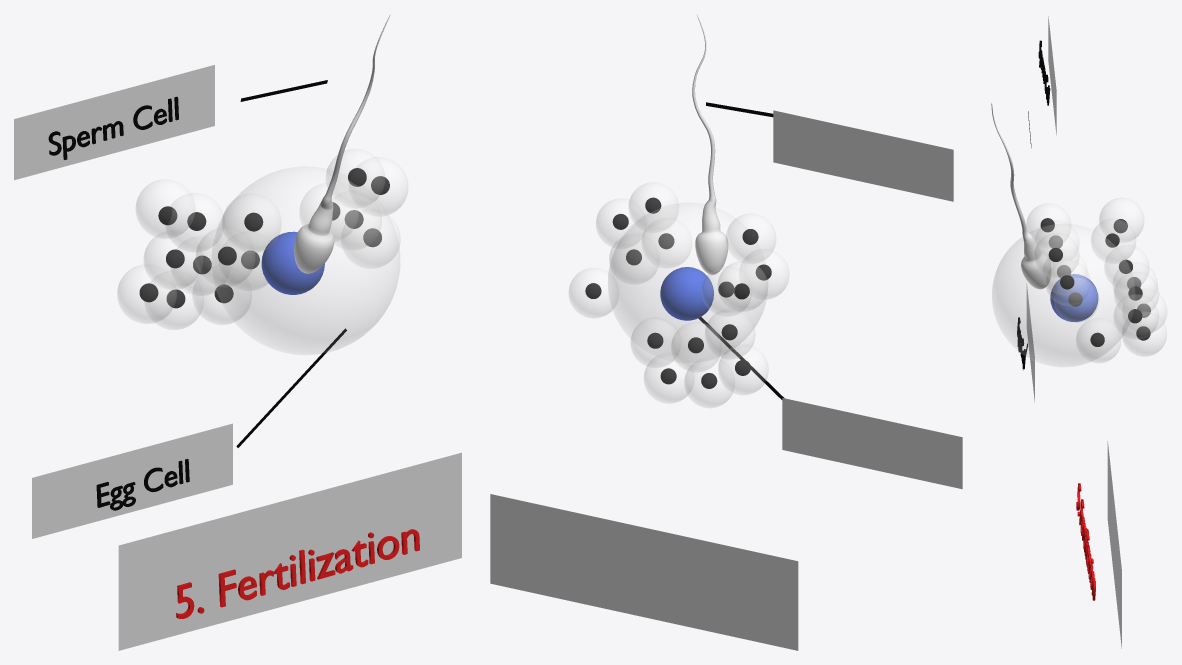
3 renders of one model, left to right at view 1: azimuth 30°, elevation 25°; view 2: azimuth 150°, elevation 25°; view 3: azimuth 270°, elevation 25°, orthographic. The views are drawn at different scales.
Parts seen in each view (by area): view 1: Plane.160, Object_2.501, Plane.159, Plane.157, Text.088, Sperm_Sperm_0.041, Object_2.576, Object_2.572, Object_2.568, Object_2.566, Object_2.578, Object_2.574 (+11 smaller); view 2: Plane.160, Object_2.501, Plane.157, Plane.159, Sperm_Sperm_0.041, Object_2.338, Object_2.572, Object_2.570, Object_2.576, Object_2.580, Object_2.582, Object_2.578 (+9 smaller); view 3: Object_2.501, Sperm_Sperm_0.041, Object_2.590, Object_2.570, Object_2.586, Object_2.574, Object_2.594, Object_2.338, Object_2.572, Object_2.584, Plane.160, Object_2.582 (+9 smaller).
Boxes of the visible parts, box(x1,y1,x2,y2) form: Plane.160: box(118, 452, 461, 650); Object_2.501: box(212, 166, 399, 354); Plane.159: box(32, 423, 232, 538); Plane.157: box(14, 65, 214, 180); Text.088: box(176, 529, 419, 618); Sperm_Sperm_0.041: box(294, 14, 390, 273); Object_2.576: box(117, 264, 176, 323); Object_2.572: box(136, 179, 194, 238); Object_2.568: box(222, 193, 280, 252); Object_2.566: box(196, 228, 254, 286); Object_2.578: box(144, 232, 202, 289); Object_2.574: box(165, 193, 223, 252); Plane.160: box(490, 494, 798, 650); Object_2.501: box(608, 203, 767, 362); Plane.157: box(773, 110, 953, 201); Plane.159: box(782, 398, 962, 489); Sperm_Sperm_0.041: box(692, 14, 728, 274); Object_2.338: box(660, 267, 713, 320); Object_2.572: box(717, 261, 767, 311); Object_2.570: box(569, 268, 618, 318); Object_2.576: box(718, 345, 768, 394); Object_2.580: box(684, 358, 734, 407); Object_2.582: box(671, 322, 721, 371); Object_2.578: box(705, 309, 755, 358); Object_2.501: box(992, 224, 1135, 366); Sperm_Sperm_0.041: box(991, 102, 1050, 289); Object_2.590: box(1046, 260, 1090, 305); Object_2.570: box(1076, 318, 1120, 362); Object_2.586: box(1114, 294, 1158, 339); Object_2.574: box(1091, 219, 1135, 263); Object_2.594: box(1034, 233, 1079, 277); Object_2.338: box(1050, 274, 1098, 321); Object_2.572: box(1099, 198, 1143, 242); Object_2.584: box(1122, 312, 1166, 356); Plane.160: box(1107, 441, 1121, 648); Object_2.582: box(1114, 272, 1158, 311).
Size of the model in its own units: 2 by 2.49 by 0.8084.
9 materials, 1 textured.
